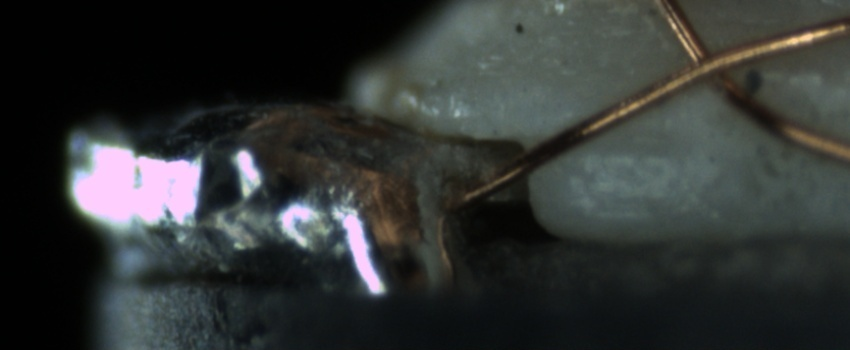CL: (660, 36, 753, 102)
DL: (559, 123, 699, 181)
